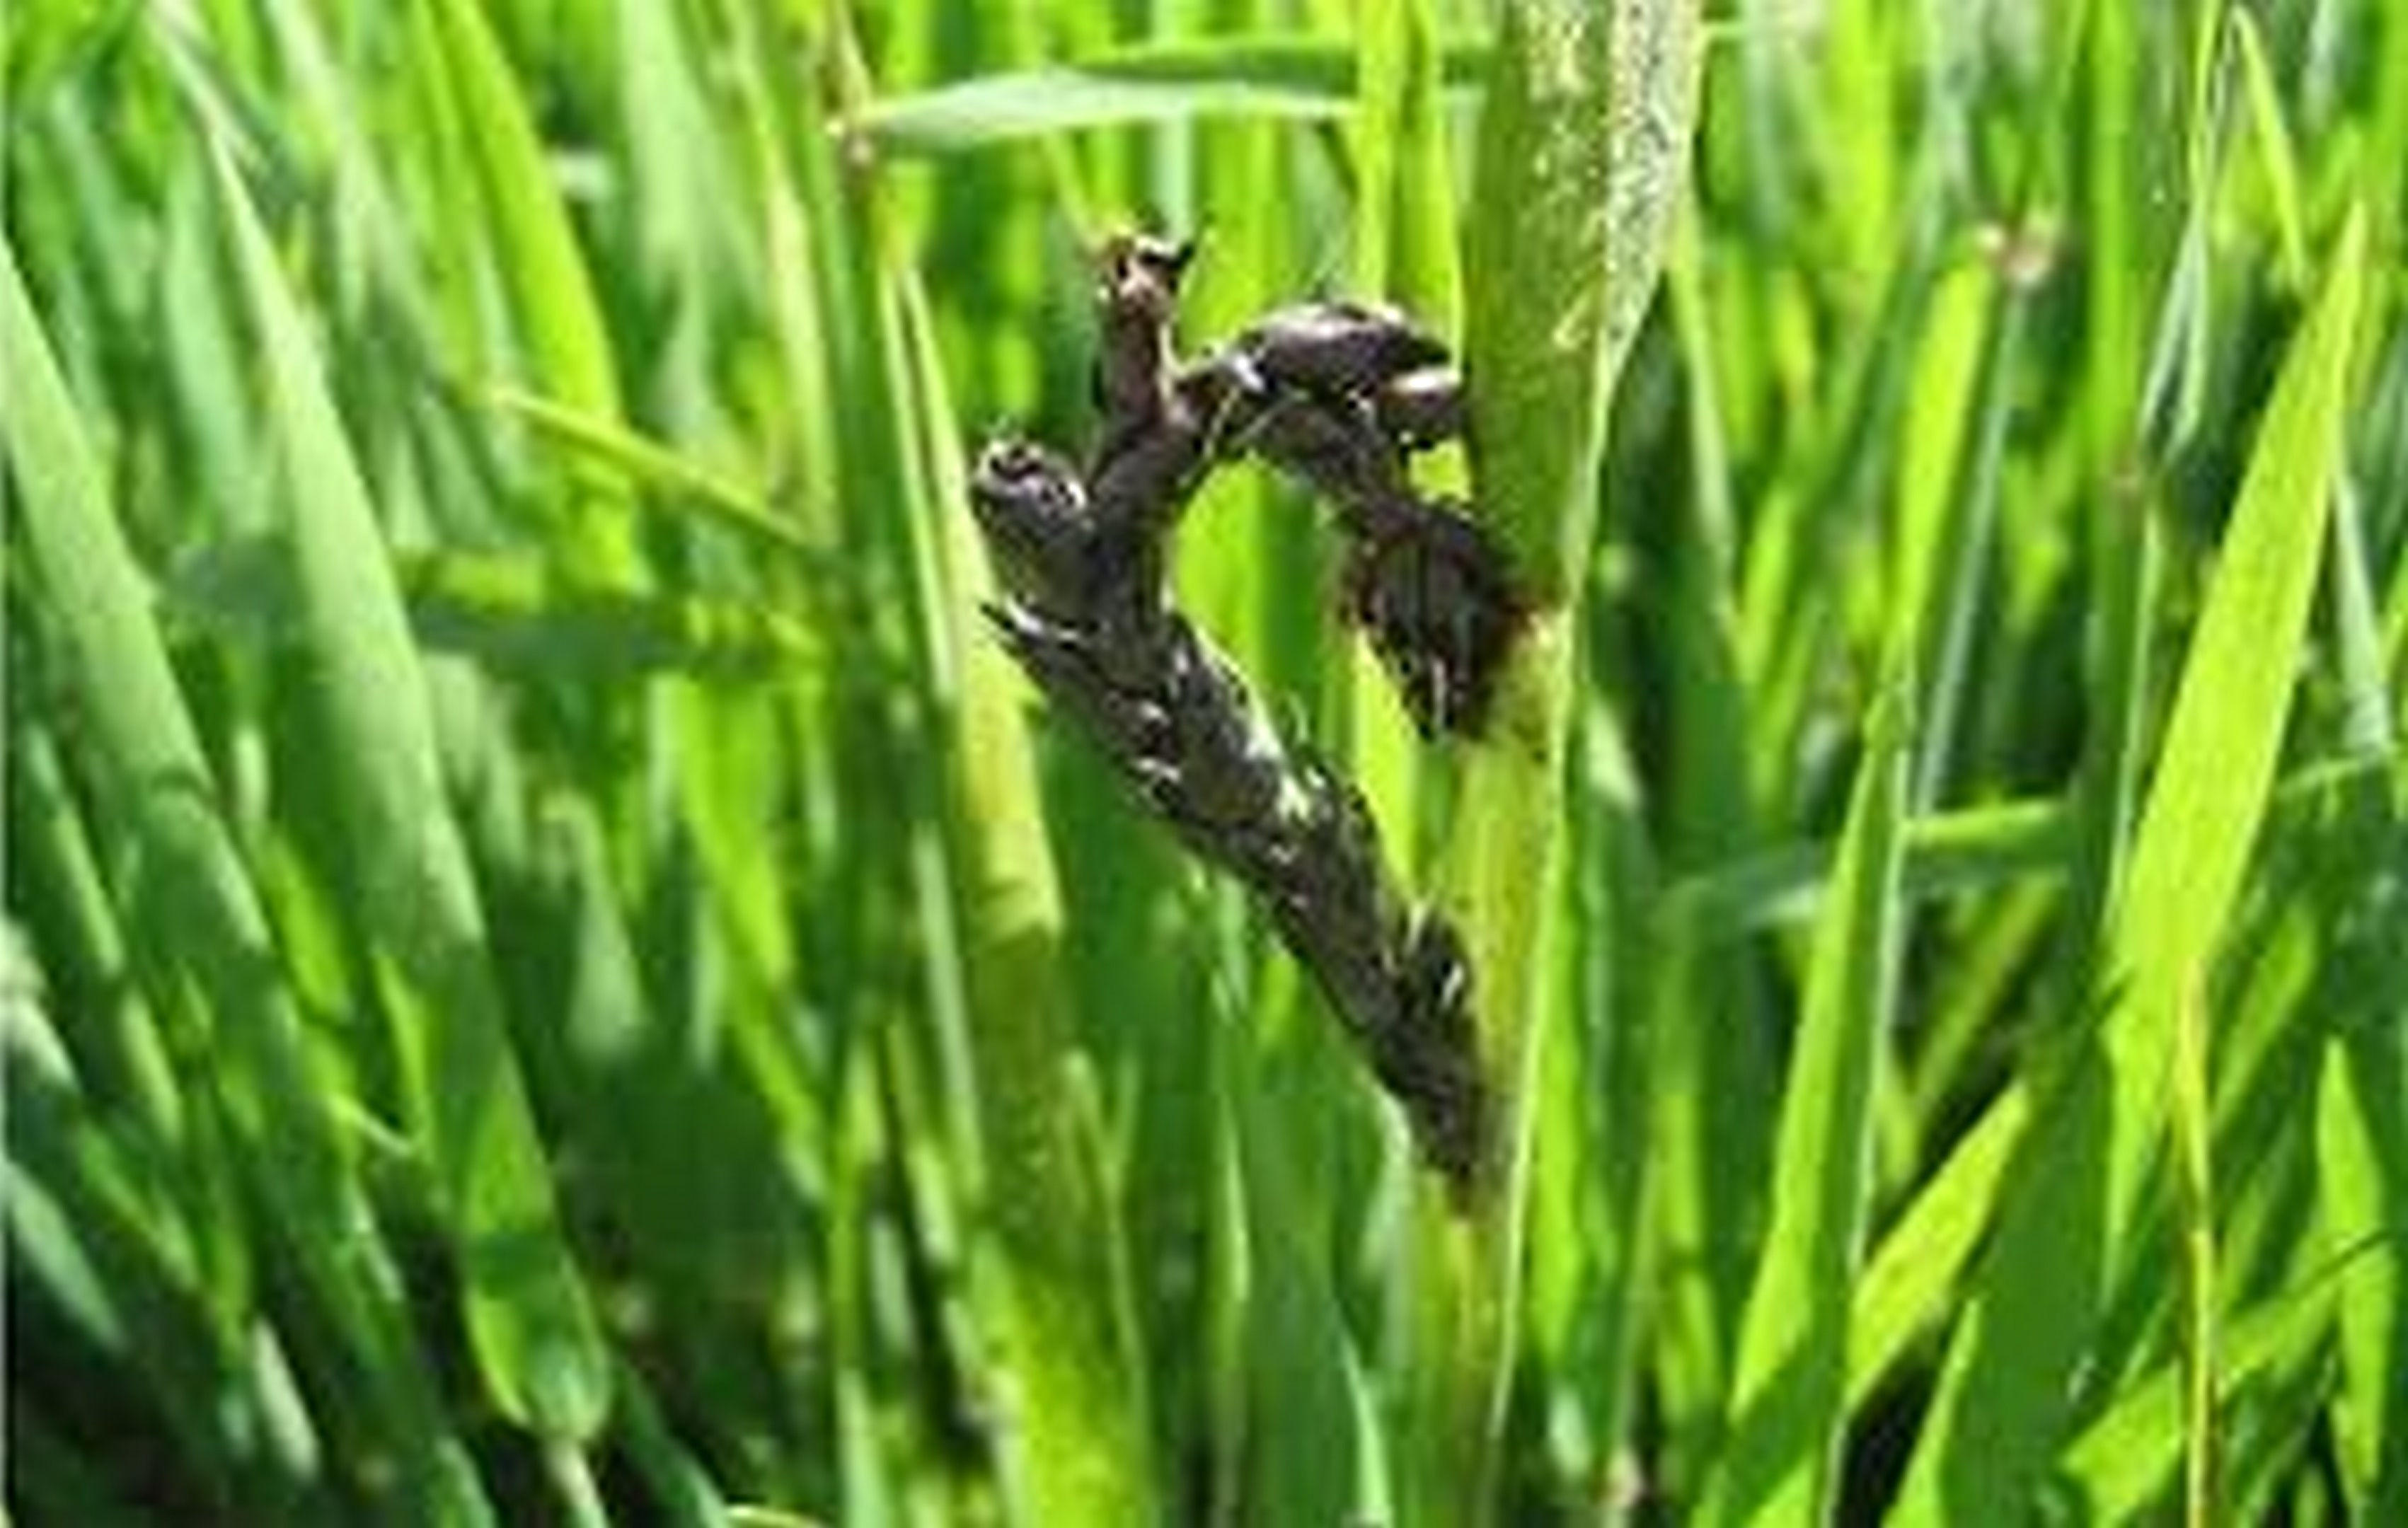Wheat Loose Smut: (955, 249, 1543, 1195)
